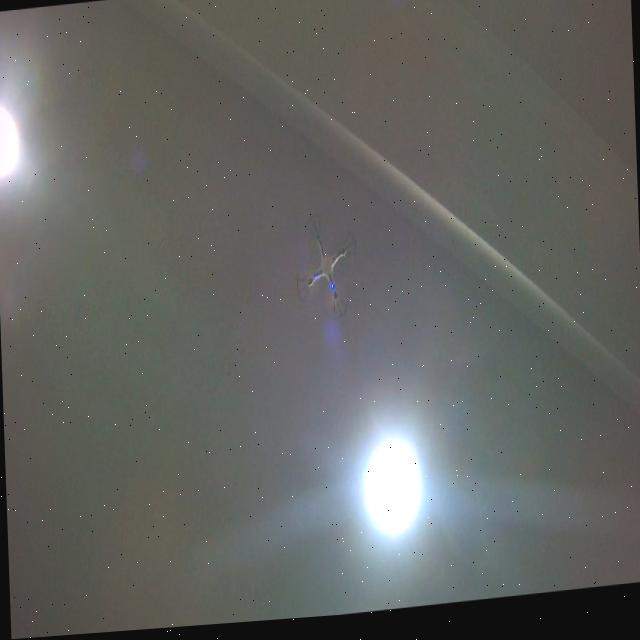drone: (290, 211, 363, 333)
